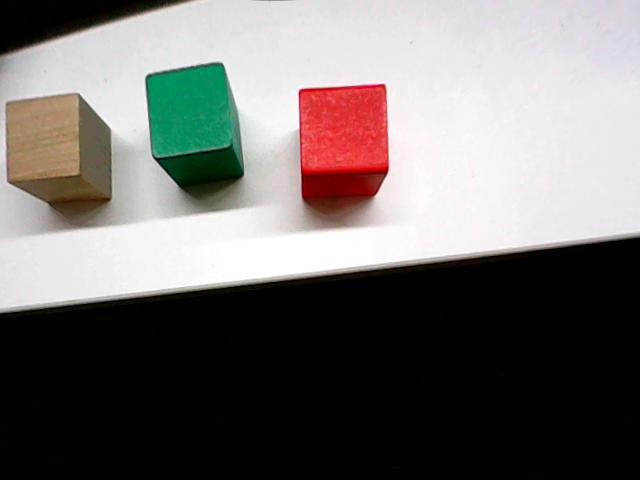green_box: (142, 58, 247, 190)
raw_box: (3, 90, 116, 207)
red_box: (294, 79, 392, 202)
